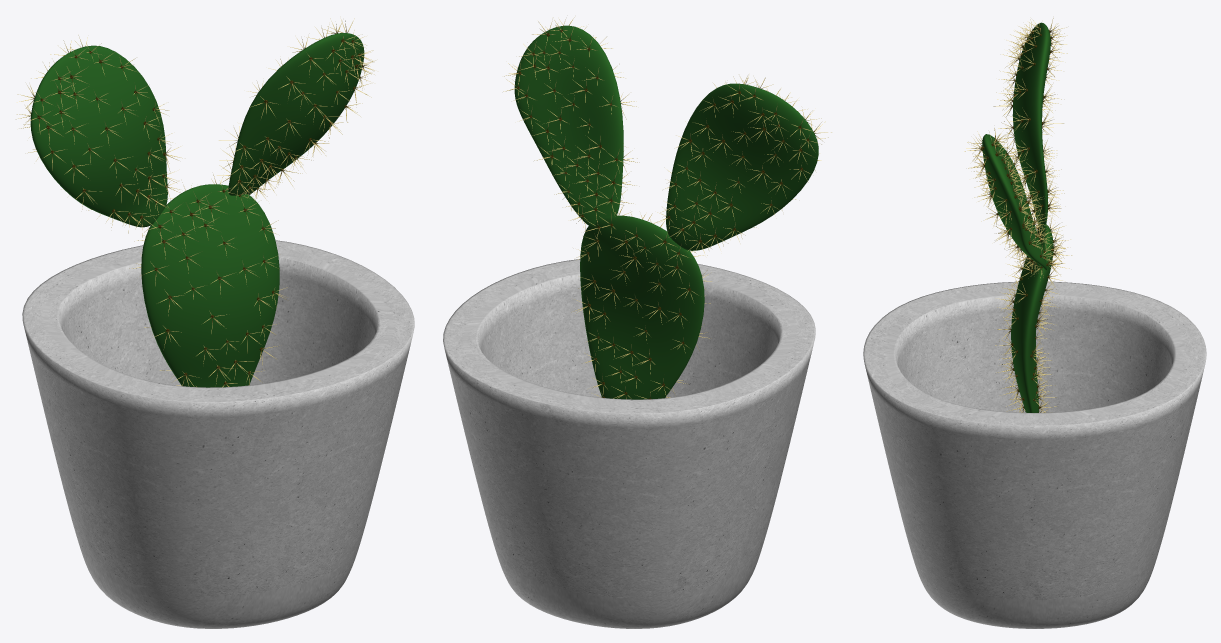
File: OPUNTIA_MICRODASYS_CEMENT_ROUND_POT.glb
3 renders of one model, left to right at view 1: azimuth 30°, elevation 25°; view 2: azimuth 150°, elevation 25°; view 3: azimuth 270°, elevation 25°, orthographic. The views are drawn at different scales.
Parts seen in each view (by area): view 1: pot02_v1, Pear Cactus1, Pear Cactus4, Pear Cactus3; view 2: pot02_v1, Pear Cactus1, Pear Cactus4, Pear Cactus3; view 3: pot02_v1, Pear Cactus4, Pear Cactus1, Pear Cactus3.
Boxes of the visible parts, box(x1,y1,x2,y2) form: pot02_v1: box(22, 240, 414, 628); Pear Cactus1: box(141, 184, 279, 387); Pear Cactus4: box(30, 45, 167, 227); Pear Cactus3: box(228, 33, 364, 195); pot02_v1: box(443, 259, 815, 628); Pear Cactus1: box(580, 215, 704, 399); Pear Cactus4: box(666, 83, 818, 250); Pear Cactus3: box(514, 25, 623, 227); pot02_v1: box(863, 281, 1206, 628); Pear Cactus4: box(1012, 22, 1050, 226); Pear Cactus1: box(1011, 224, 1053, 412); Pear Cactus3: box(982, 134, 1047, 270).
Bounding box in the file's own units: 1.25 × 1.84 × 1.12.
Materials: 4 (2 with a texture image).
